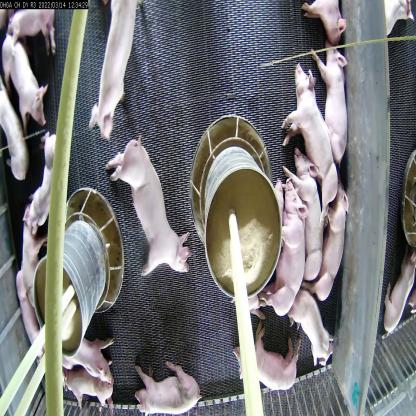Pig: (102, 134, 188, 272), (92, 4, 146, 138), (285, 73, 342, 190), (0, 21, 54, 137), (238, 316, 310, 390), (314, 29, 354, 160), (265, 180, 300, 314), (286, 160, 324, 273), (26, 124, 67, 224), (135, 363, 208, 415), (57, 322, 116, 381), (314, 183, 341, 306), (293, 293, 334, 369), (14, 232, 42, 306)
